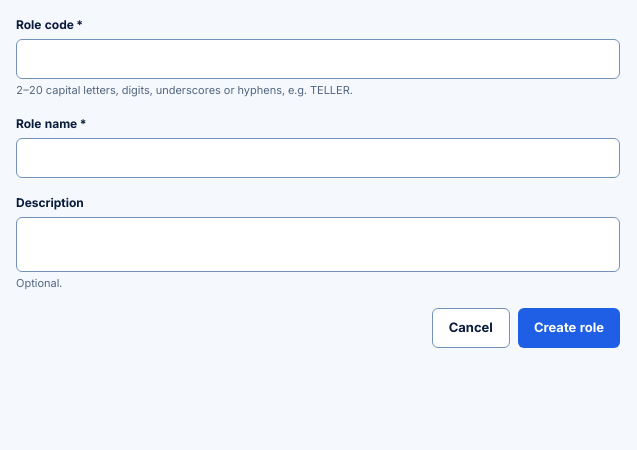
RoleForm › validates on the client, with the field errors and a summary (spec §9)
Type "credit clerk" into the field labelled "Role code" at (318, 59), box [16,39,620,79]
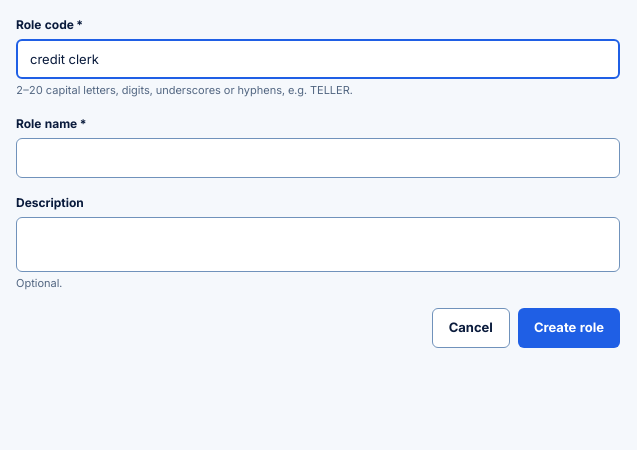
Click the button "Create role" at (569, 328), box [518,308,620,348]
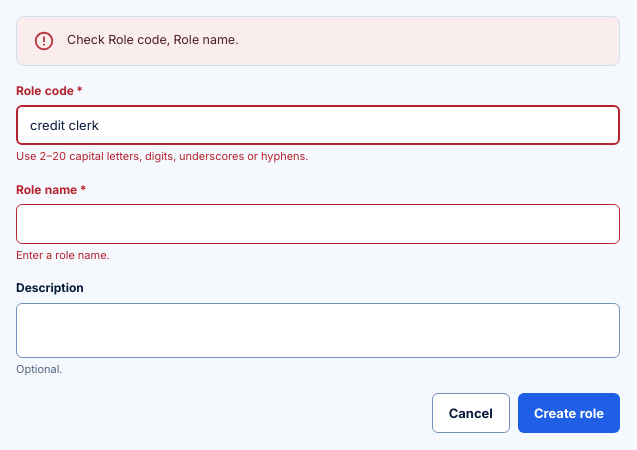
Expected: the text "Use 2–20 capital letters, digits, underscores or hyphens." is shown, [16,149,308,163]
Expected: the message reads "Check Role code, Role name.", [16,16,620,66]
